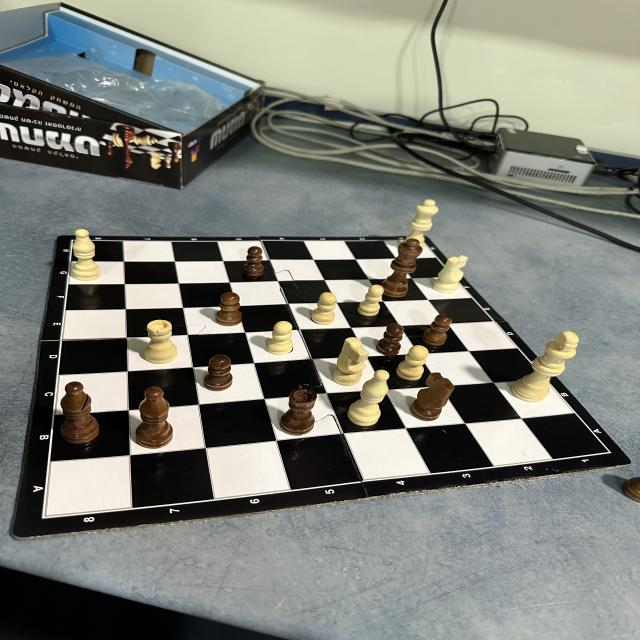Black-Bishop: (59, 381, 100, 444), (134, 386, 174, 449)
Black-Knight: (409, 372, 456, 421)
Black-Pawn: (203, 354, 234, 391), (375, 323, 406, 356), (422, 313, 452, 347), (215, 292, 243, 326), (242, 246, 265, 277)
Black-Queen: (385, 238, 423, 298)
Black-Rook: (280, 388, 318, 435)
White-Bishop: (346, 370, 391, 428), (70, 228, 101, 282)
White-King: (510, 331, 579, 403)
White-Knight: (332, 337, 370, 386), (433, 255, 470, 293)
White-Pawn: (394, 345, 430, 382), (267, 320, 293, 356), (356, 284, 384, 317), (311, 292, 338, 326)
White-Queen: (405, 199, 439, 238)
White-Rook: (144, 319, 178, 365)
